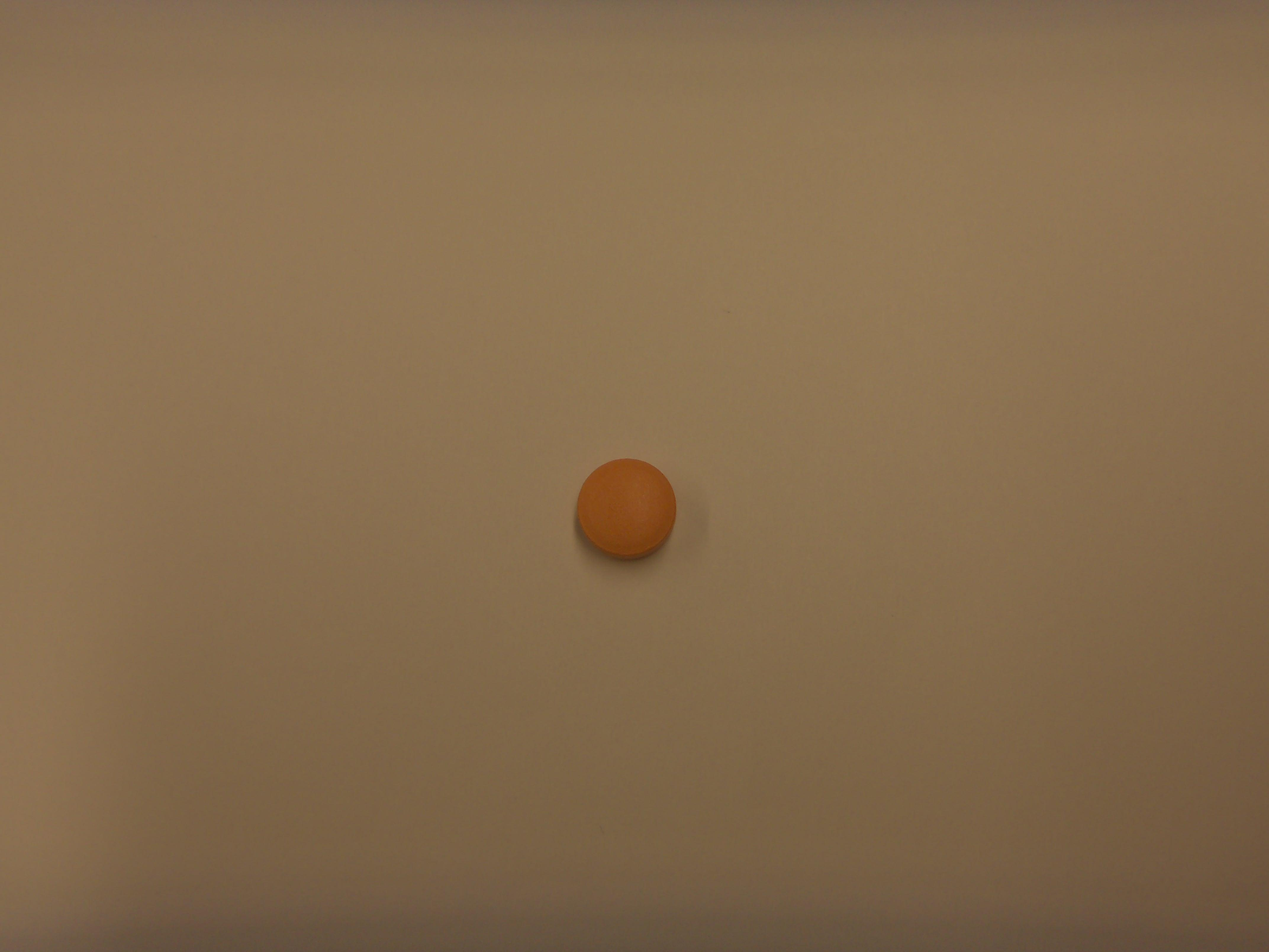Pill: (570, 451, 682, 565)
